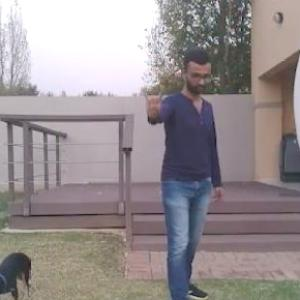takeoff-hand: (138, 75, 170, 117)
